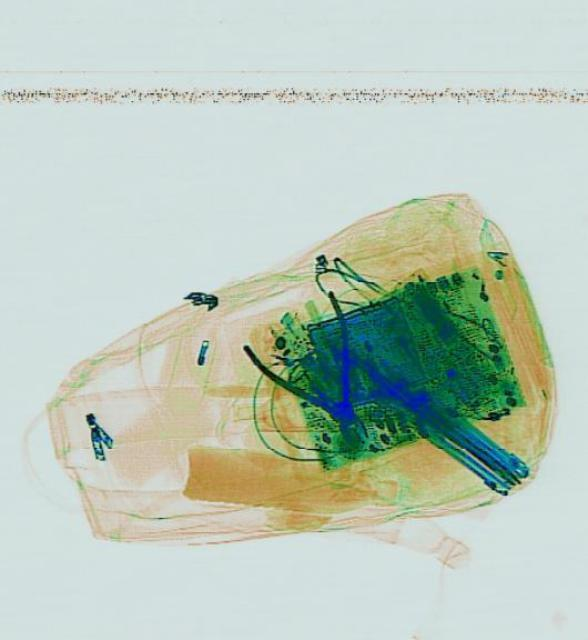Pliers: (237, 290, 401, 470)
